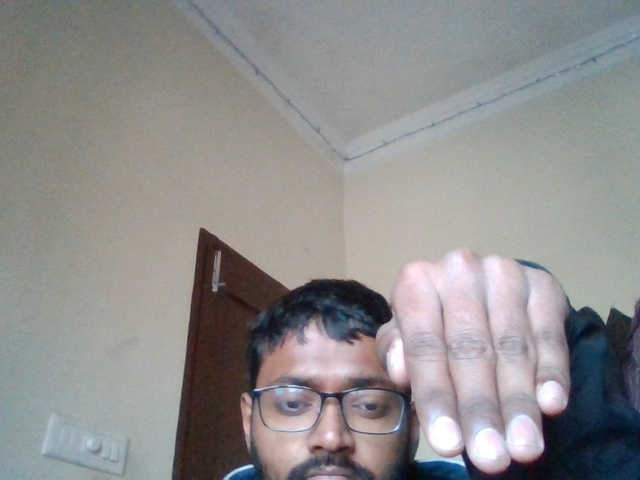morning: (364, 247, 603, 465)
